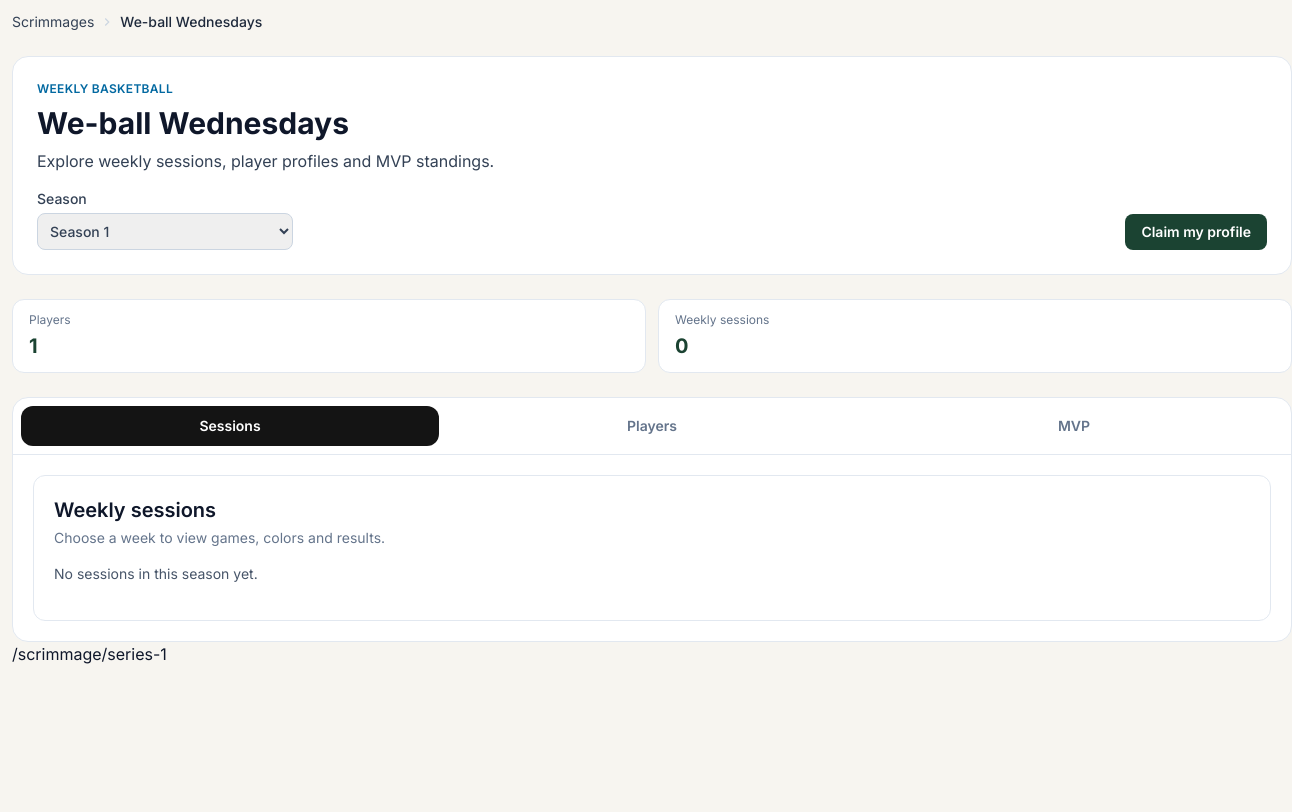
Test: scrimmage membership and MVP › shows the agreed formula and season eligibility below the table
The image size is (1292, 812).
Expected: the heading "We-ball Wednesdays" is shown, x1=37 y1=105 x2=349 y2=141
What coordinates should you click on to do the following:
click the tab "MVP"
I would click on:
 (1074, 426)
Its box is x1=865 y1=406 x2=1283 y2=446.
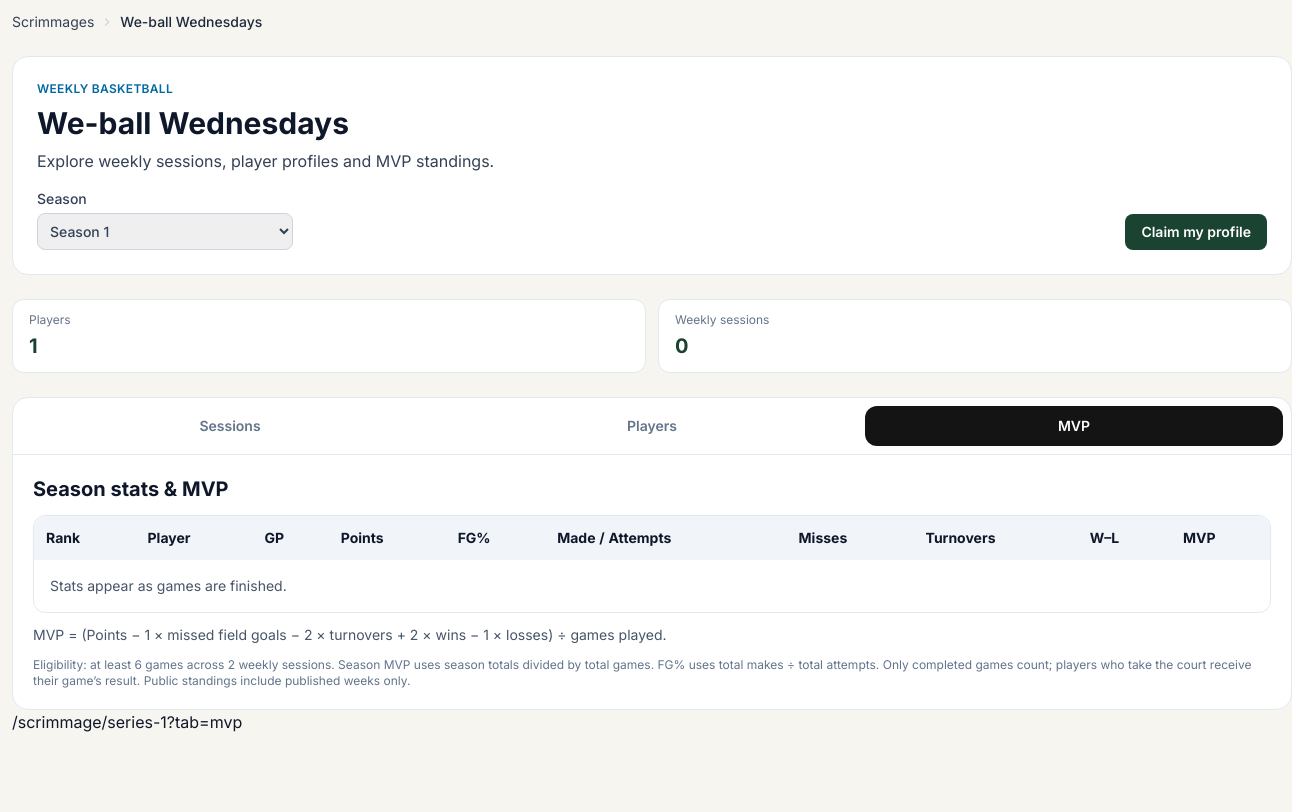
Expected: the heading "Season stats & MVP" is shown, x1=33 y1=477 x2=228 y2=501
Expected: the text "MVP = (Points − 1 × missed field goals − 2 × turnovers + 2 × wins − 1 × losses) ÷ games played" is shown, x1=33 y1=626 x2=667 y2=643
Expected: the text "at least 6 games across 2 weekly sessions" is shown, x1=33 y1=657 x2=654 y2=672
